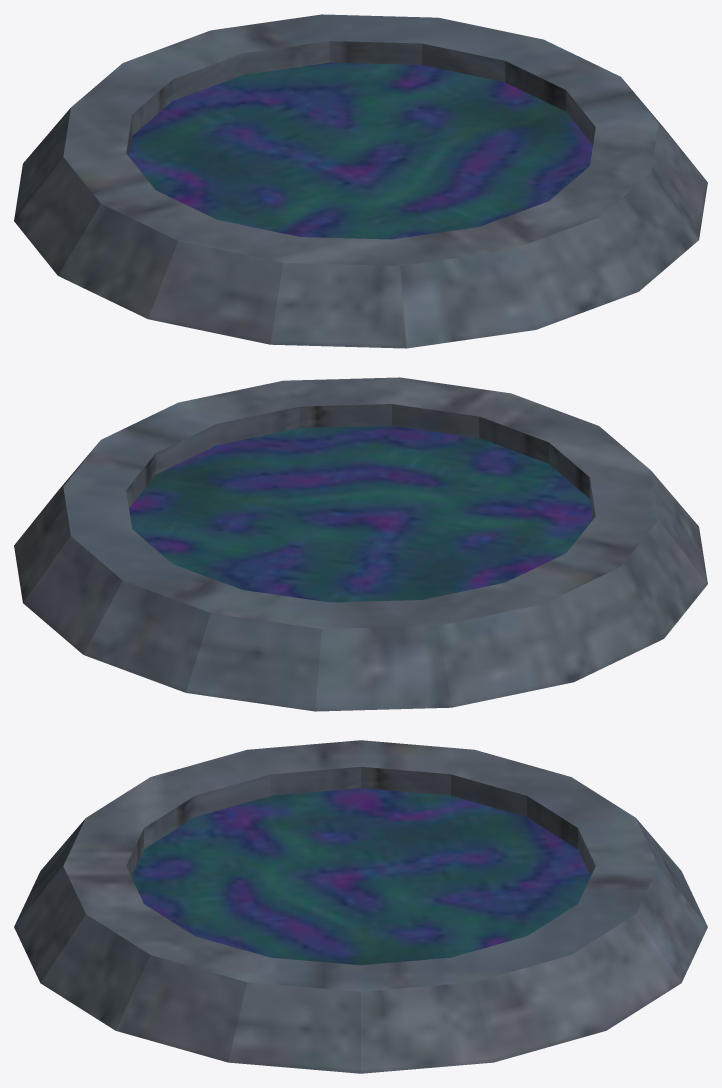
The model's file is jump_pad.fbx.
The picture shows the model from 3 angles, top to bottom: view 1: azimuth 30°, elevation 25°; view 2: azimuth 150°, elevation 25°; view 3: azimuth 270°, elevation 25°; orthographic projection.
Parts seen in each view (by area): view 1: Cylinder; view 2: Cylinder; view 3: Cylinder.
Part boxes in pixels (box(x1,y1,x2,y2)): Cylinder: box(14, 14, 707, 348); Cylinder: box(14, 377, 707, 711); Cylinder: box(14, 740, 707, 1073).
Size of the model in its own units: 133 by 12.9 by 133.
